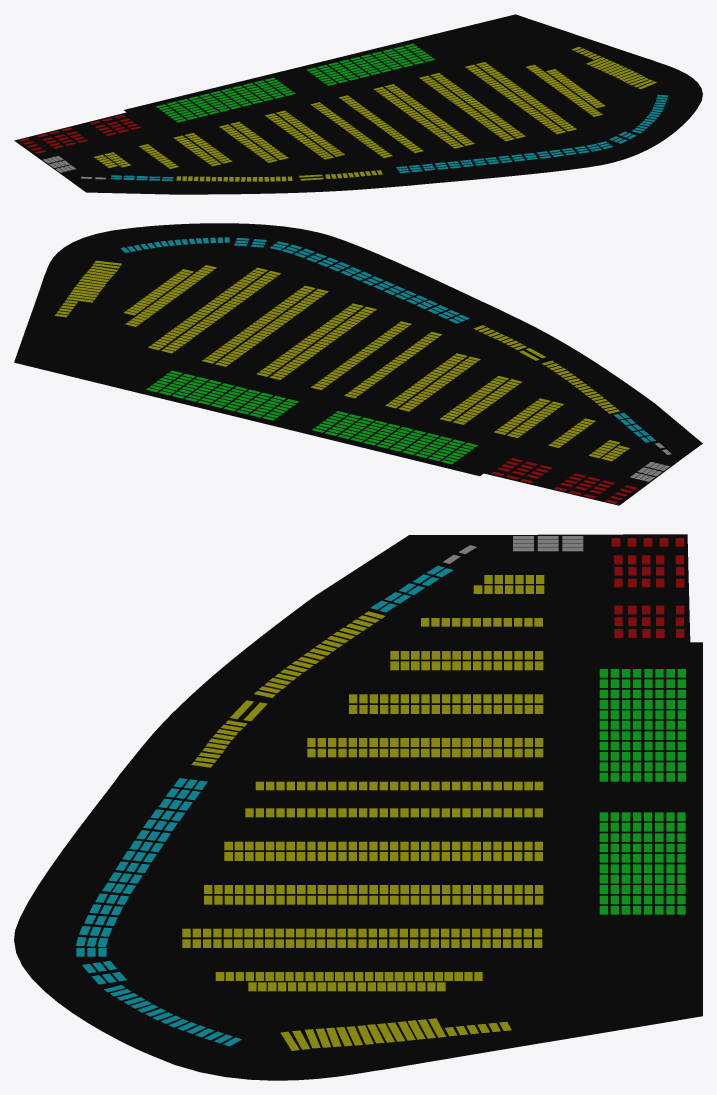
Rendered from japfa.glb.
The picture shows the model from 3 angles, top to bottom: view 1: azimuth 30°, elevation 25°; view 2: azimuth 150°, elevation 25°; view 3: azimuth 270°, elevation 25°; orthographic projection. The views are drawn at different scales.
Parts seen in each view (by area): view 1: Curve_1_1; view 2: Curve_1_1; view 3: Curve_1_1.
Part boxes in pixels (left/top/right/bottom): Curve_1_1: left=14, top=14, right=702, bottom=194; Curve_1_1: left=14, top=223, right=702, bottom=505; Curve_1_1: left=14, top=534, right=702, bottom=1080.
Size of the model in its own units: 500 by 4.77e-06 by 266.
